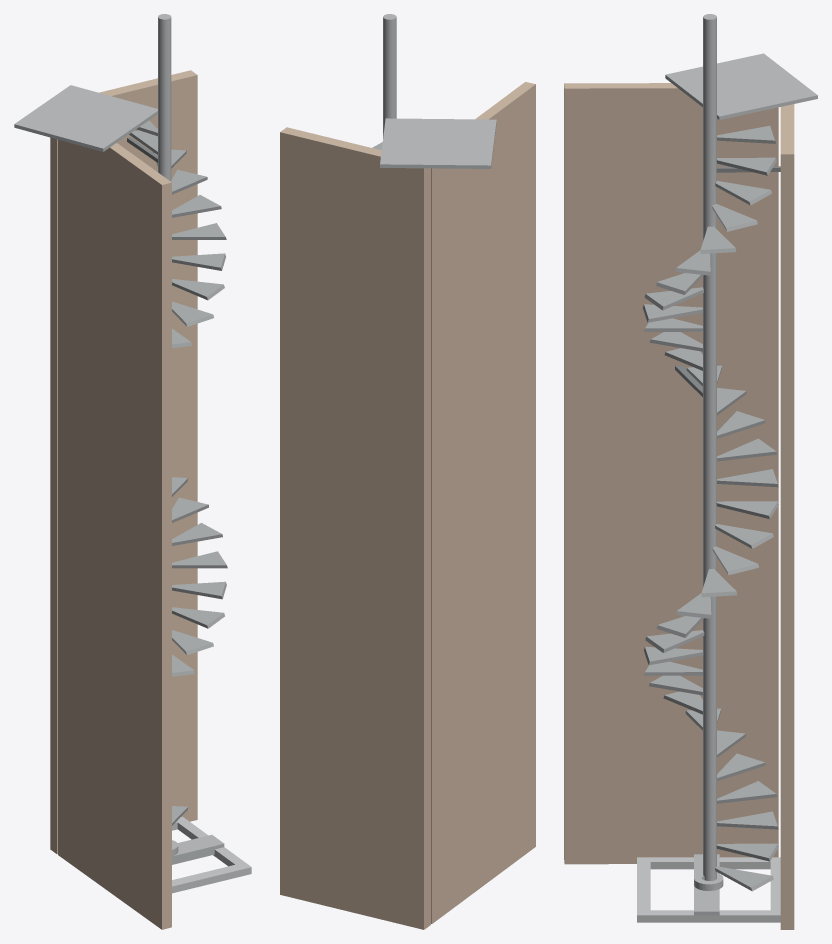
Rendered from scala-piano-terra.glb.
3 views of the same model, side by side, from view 1: azimuth 30°, elevation 25°; view 2: azimuth 150°, elevation 25°; view 3: azimuth 270°, elevation 25° (orthographic). The views are drawn at different scales.
Parts seen in each view (by area): view 1: Mesh_Mesh_head_geo.001_lambert2SG.001; view 2: Mesh_Mesh_head_geo.001_lambert2SG.001; view 3: Mesh_Mesh_head_geo.001_lambert2SG.001.
Part boxes in pixels (left/top/right/bottom): Mesh_Mesh_head_geo.001_lambert2SG.001: left=14, top=14, right=251, bottom=929; Mesh_Mesh_head_geo.001_lambert2SG.001: left=280, top=14, right=535, bottom=929; Mesh_Mesh_head_geo.001_lambert2SG.001: left=564, top=14, right=817, bottom=929.
Bounding box in the file's own units: 0.117 × 0.493 × 0.129.
